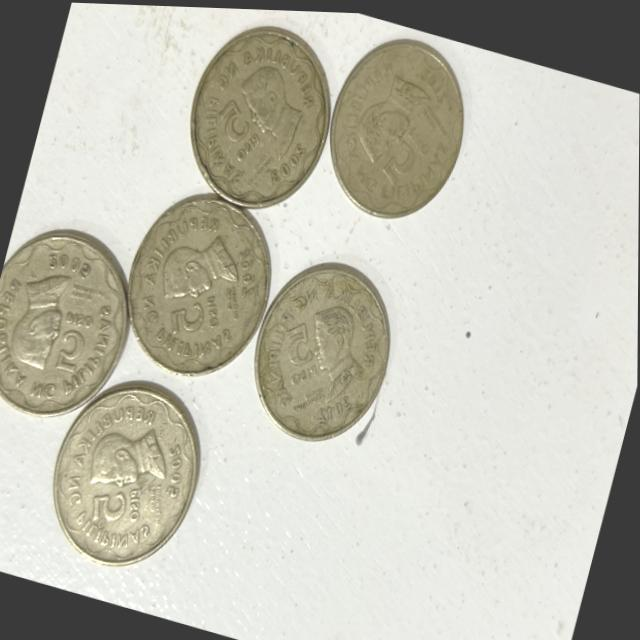5_Old_Front: (202, 81, 280, 172), (153, 281, 231, 366), (266, 313, 337, 393), (46, 302, 108, 385), (80, 479, 159, 542), (381, 111, 444, 189)
